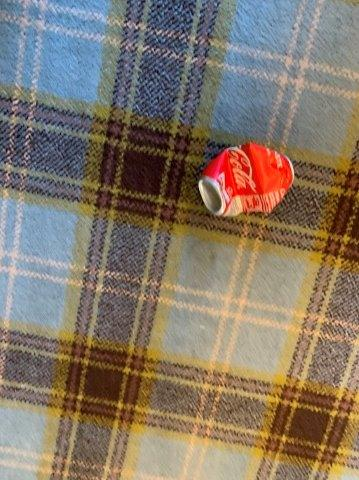kaleng: (199, 143, 293, 213)
